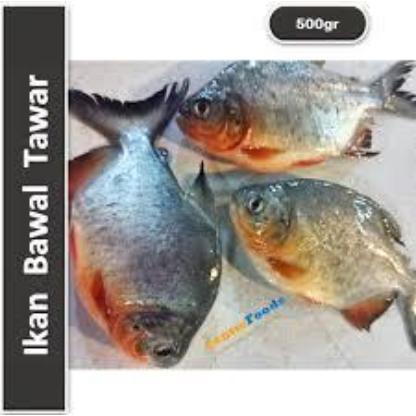ikan-pacu: (66, 103, 224, 363), (233, 179, 416, 317), (183, 61, 411, 169)
